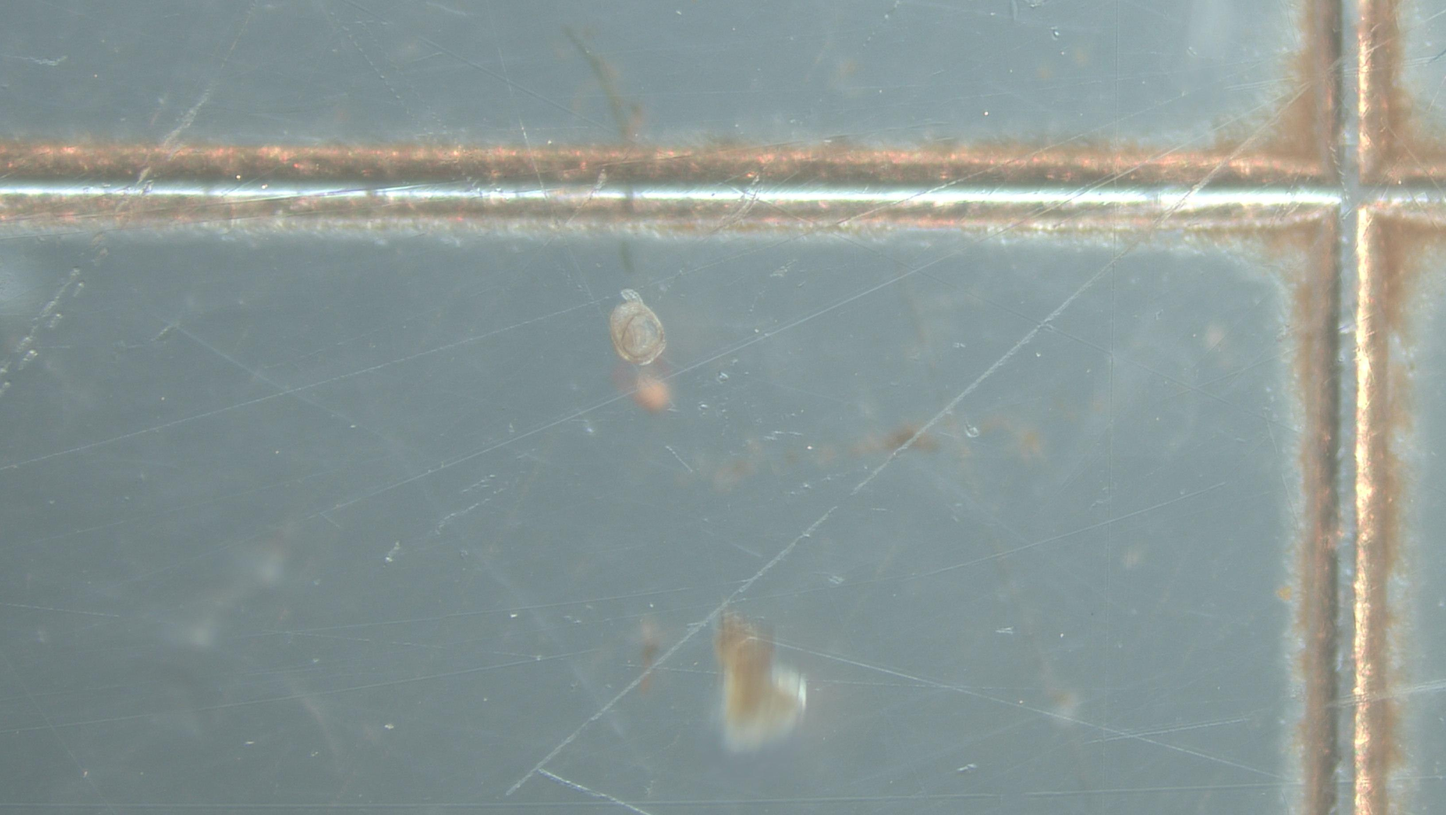live: (610, 289, 666, 365)
